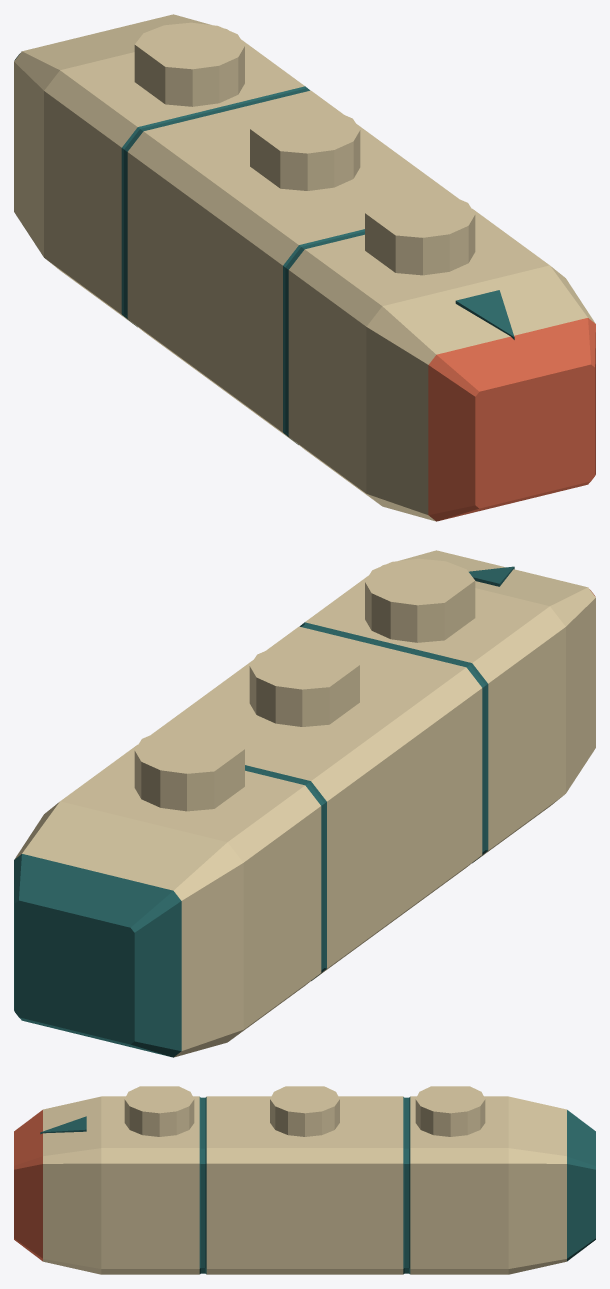
Rendered from pontoon-lod-1.glb.
3 views of the same model, one above another, from view 1: azimuth 30°, elevation 25°; view 2: azimuth 150°, elevation 25°; view 3: azimuth 270°, elevation 25° (orthographic). The views are drawn at different scales.
Parts seen in each view (by area): view 1: pontoon_shell_lod1; view 2: pontoon_shell_lod1; view 3: pontoon_shell_lod1.
Part boxes in pixels (x1,y1,x2,y2): pontoon_shell_lod1: [14, 14, 595, 521]; pontoon_shell_lod1: [14, 550, 595, 1057]; pontoon_shell_lod1: [14, 1086, 595, 1274].
Bounding box in the file's own units: 1 × 1.14 × 4.
Materials: 1 (1 with a texture image).
